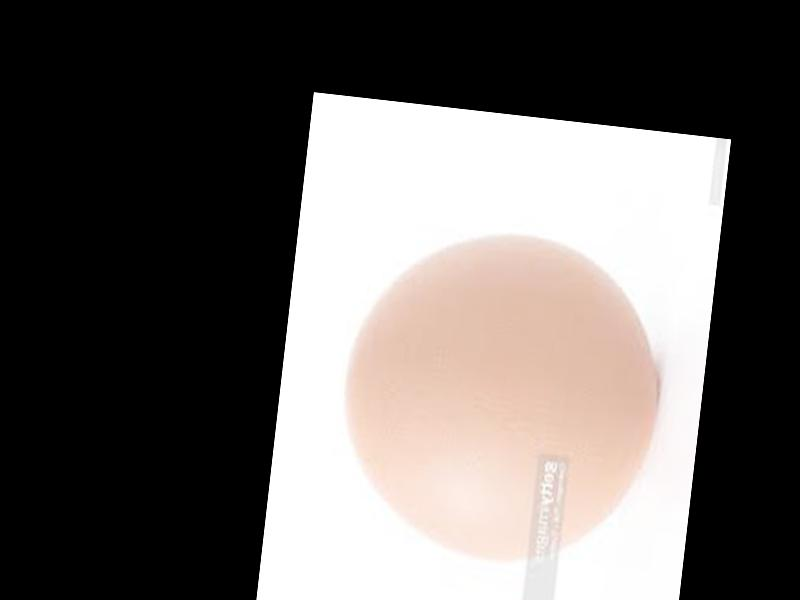Eggs: (327, 218, 667, 576)
